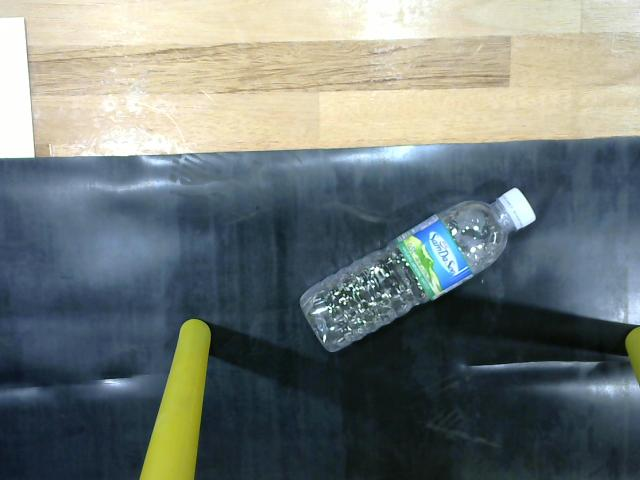bottle: (289, 179, 547, 361)
